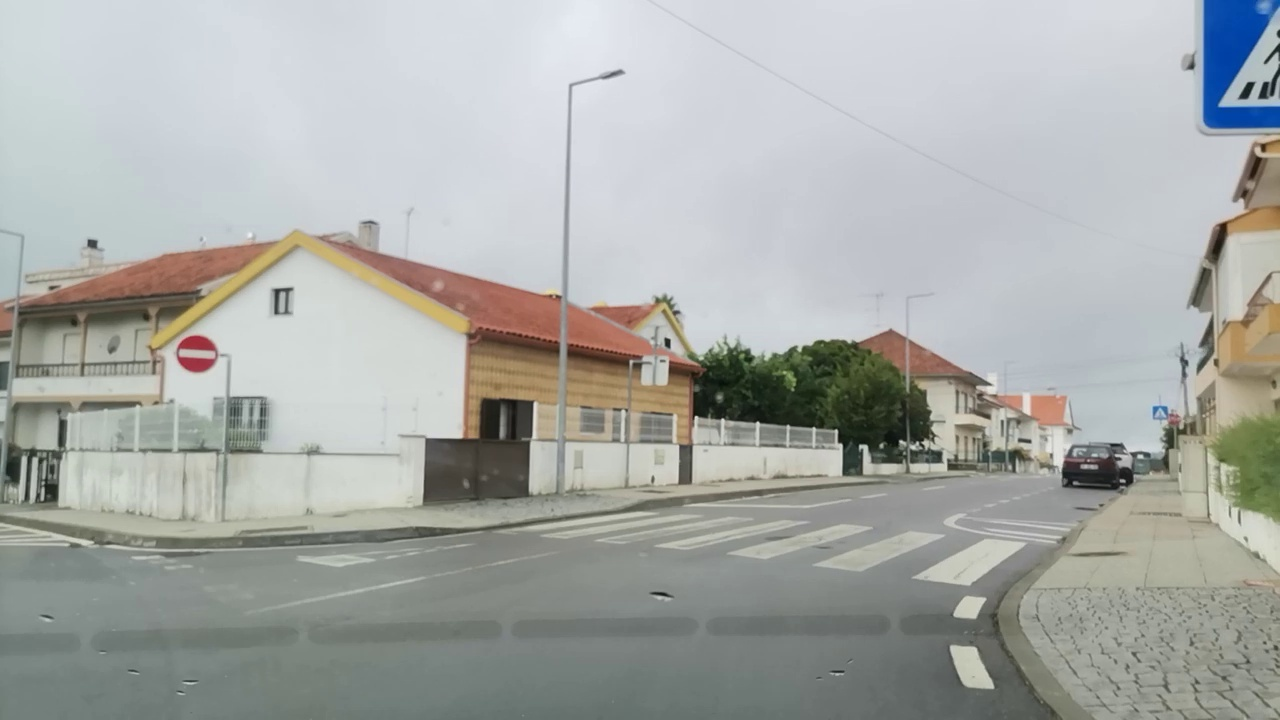Stairs: (506, 505, 1022, 588)
